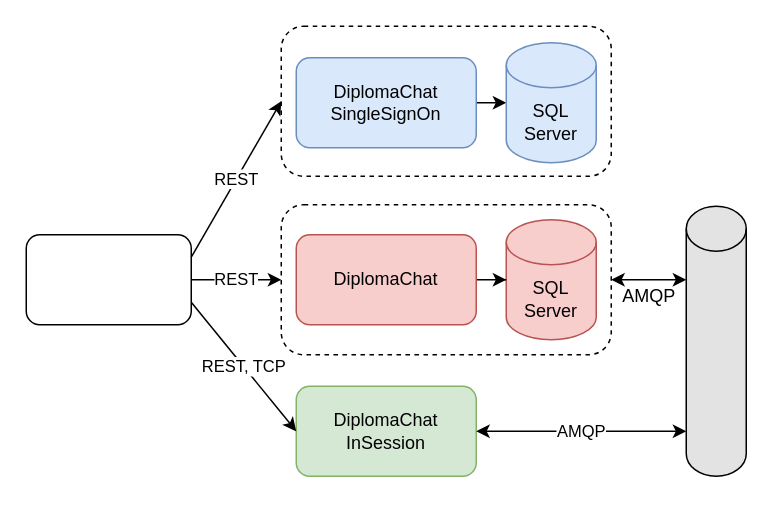
The diagram is 773 pixels wide and 515 high, and some of its shapes have lost their labels. The shapes that lost their labels are listed below. From the top down, each one's centre as x and y in pixels, then its label:
At (108,279): "DiplomaChat.UI".
At (715,340): "RabbitMQ".
